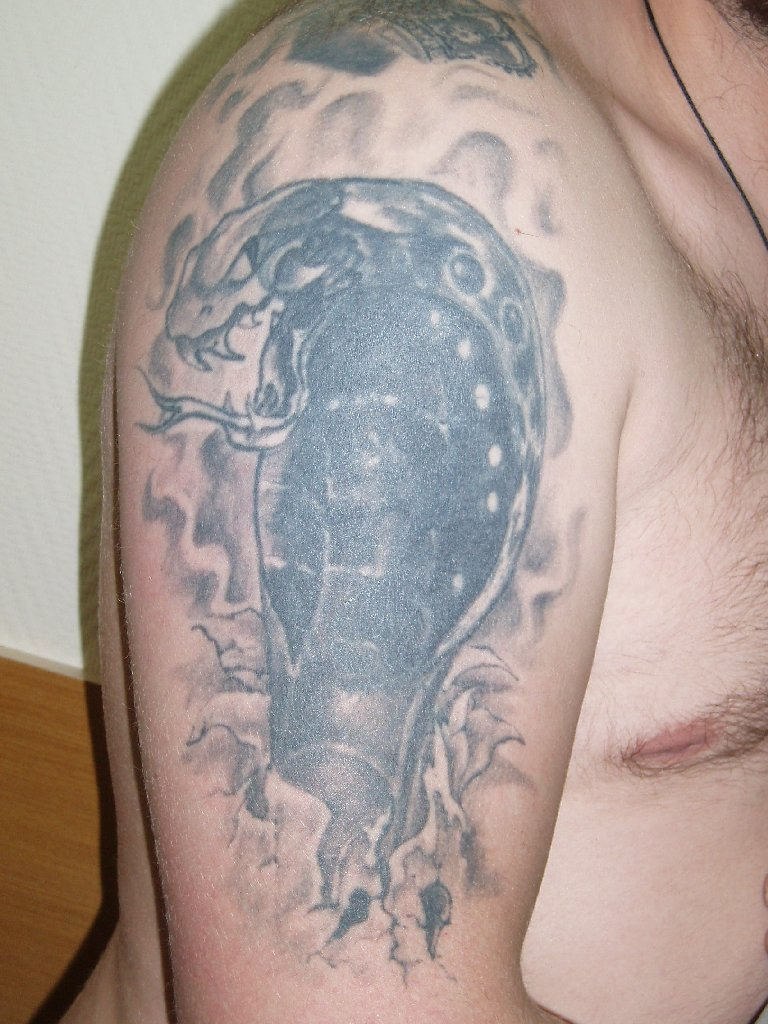tatu7_zmeya: (138, 124, 600, 893)
